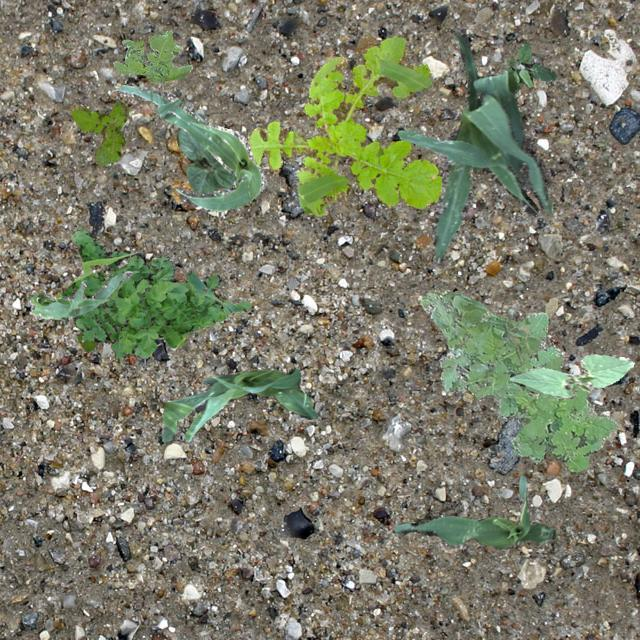crop: (396, 27, 550, 264), (111, 84, 265, 210), (392, 474, 554, 548), (160, 368, 316, 443), (508, 352, 634, 398), (28, 270, 132, 318), (176, 111, 233, 192)
weed: (418, 288, 618, 471), (246, 34, 442, 216), (56, 228, 250, 358), (112, 28, 192, 80), (68, 100, 126, 163), (504, 42, 556, 92), (76, 332, 98, 349)
